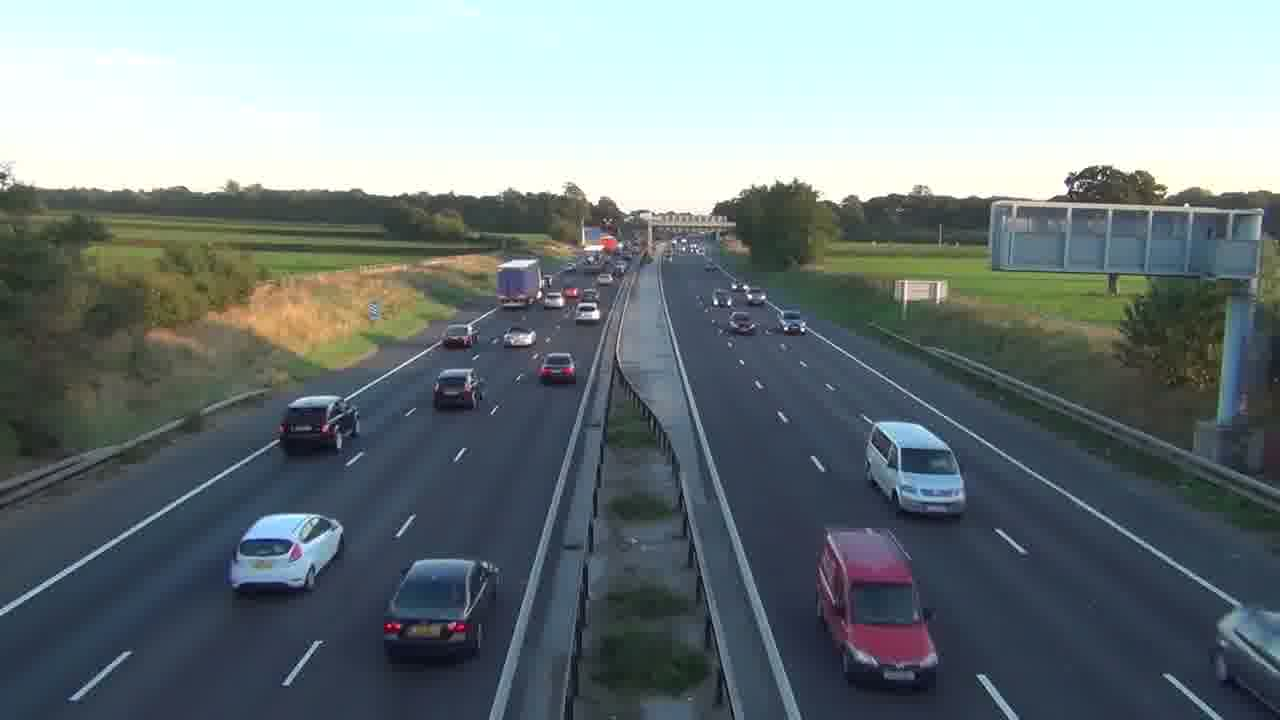car: (381, 557, 500, 663), (863, 418, 967, 518), (227, 512, 344, 595), (1211, 605, 1279, 715), (432, 367, 482, 410), (537, 352, 576, 386), (504, 327, 537, 348)
truck: (815, 526, 941, 692), (277, 394, 359, 454), (495, 257, 541, 308)
